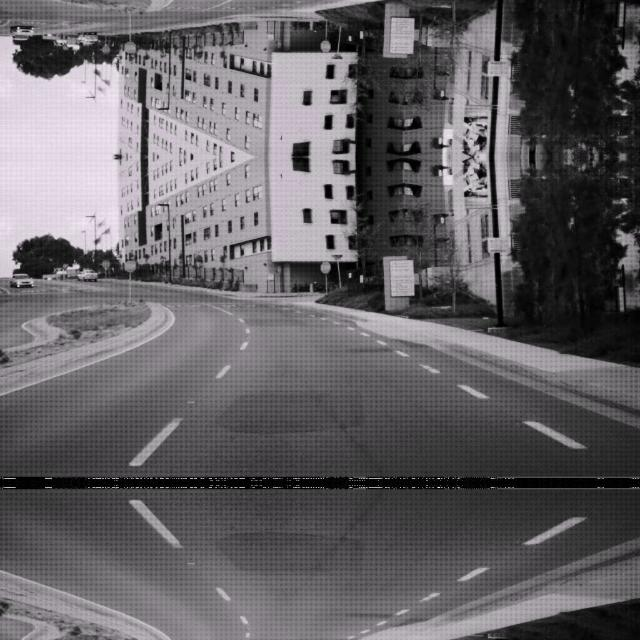stop: (122, 258, 136, 272), (122, 40, 136, 54), (320, 260, 330, 272), (320, 40, 330, 52)
